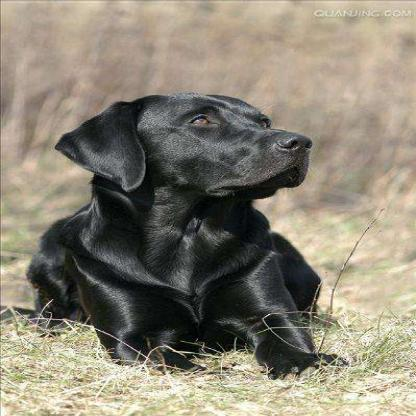Labarador Retriever: (26, 88, 320, 374)
